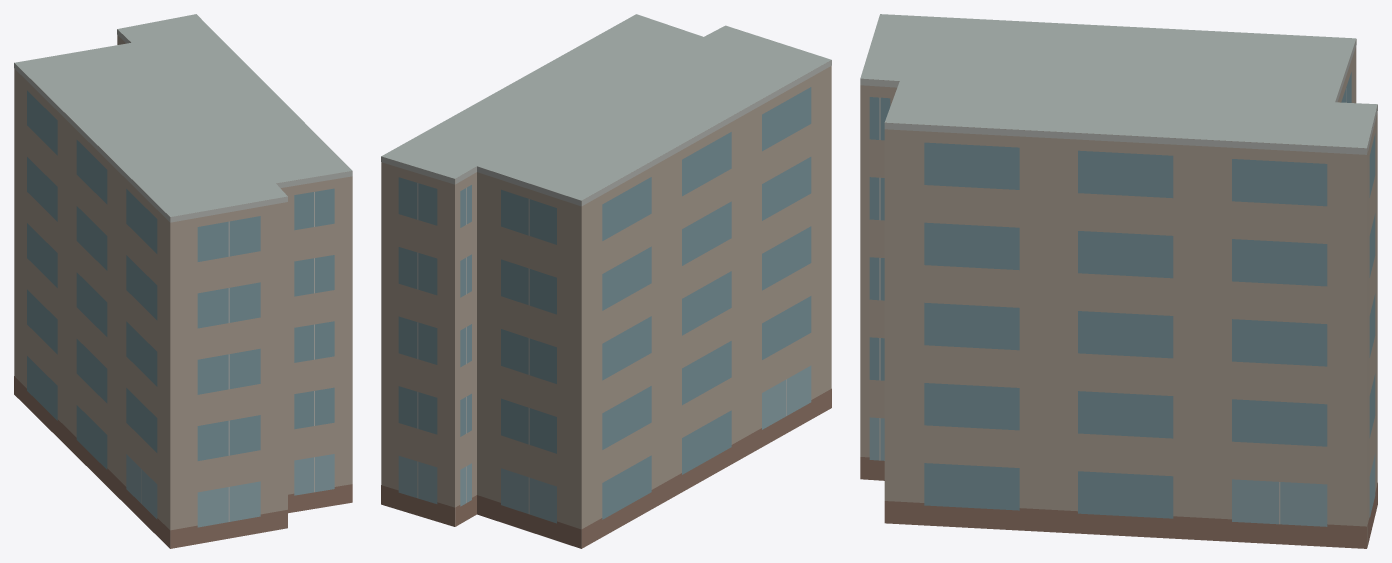
File: survey-upis-32975042.glb
3 renders of one model, left to right at view 1: azimuth 30°, elevation 25°; view 2: azimuth 150°, elevation 25°; view 3: azimuth 270°, elevation 25°, orthographic. The views are drawn at different scales.
Visible parts, largest first — view 1: survey-upis-32975042.tmp; view 2: survey-upis-32975042.tmp; view 3: survey-upis-32975042.tmp.
Part boxes in pixels (<box>): survey-upis-32975042.tmp: <box>14,14,352,548</box>; survey-upis-32975042.tmp: <box>381,14,831,548</box>; survey-upis-32975042.tmp: <box>860,14,1377,548</box>.
Bounding box in the file's own units: 10.57 × 14.7 × 17.22.
